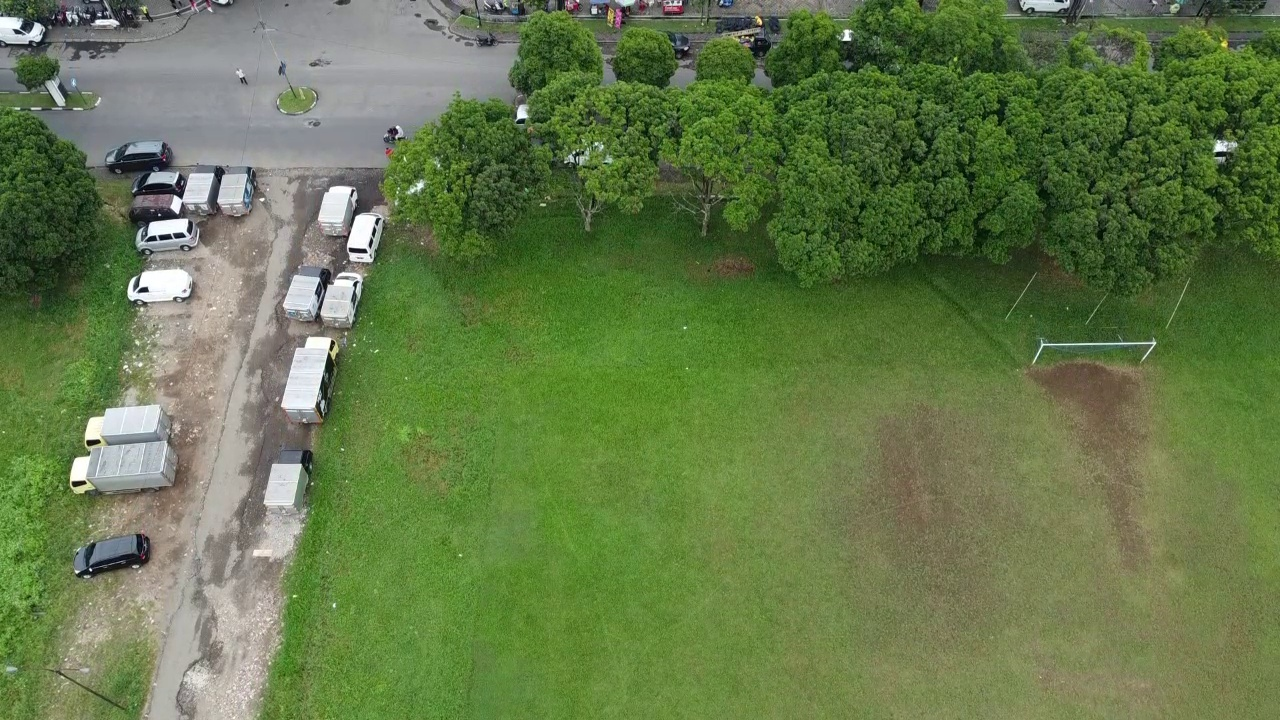mobil: (62, 529, 159, 579), (122, 264, 205, 308), (106, 135, 176, 175), (344, 205, 386, 265), (135, 220, 206, 255), (127, 189, 187, 224), (128, 168, 187, 197), (1, 12, 47, 47)
